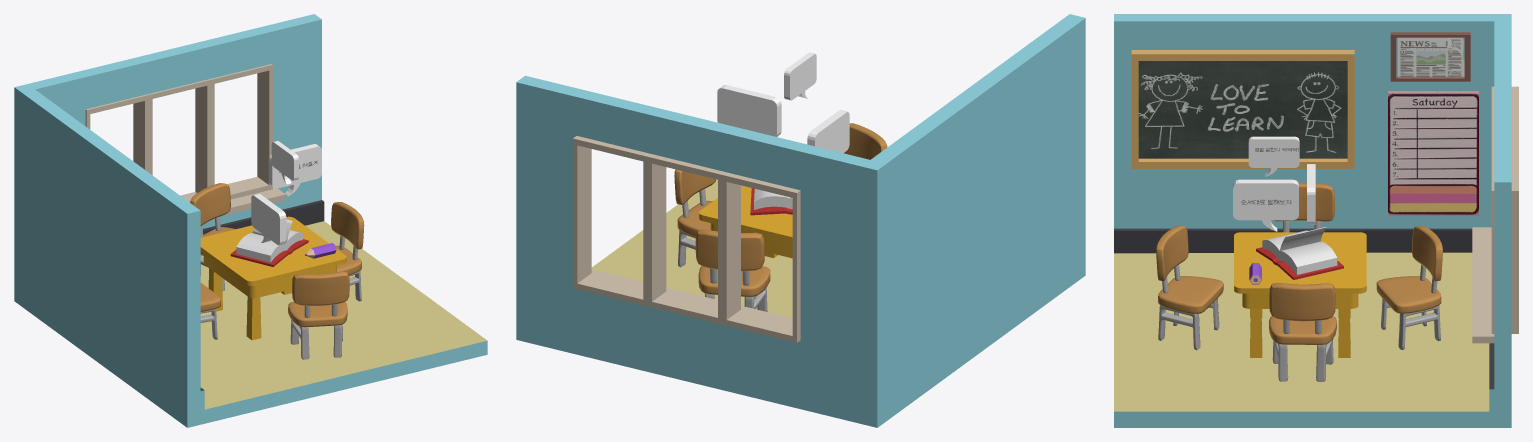
Rendered from Desk.fbx.
3 renders of one model, left to right at view 1: azimuth 30°, elevation 25°; view 2: azimuth 150°, elevation 25°; view 3: azimuth 270°, elevation 25°, orthographic. The views are drawn at different scales.
Visible parts, largest first — view 1: Wall, Desk, Chair_04, Chair_02, Book, Chair_01, Balloon_02, Balloon_03, Balloon_01, Chair_03; view 2: Wall, Chair_01, Balloon_03, Desk, Chair_02, Balloon_02, Balloon_01, Chair_04, Book; view 3: Wall, Desk, Chair_02, Chair_04, Chair_01, Balloon_02, Book, Balloon_01, Chair_03, Book.001, Balloon_03.
Part boxes in pixels (bbox=[...]): Wall: bbox=[14, 14, 487, 427]; Desk: bbox=[200, 216, 346, 340]; Chair_04: bbox=[288, 271, 349, 359]; Chair_02: bbox=[331, 202, 364, 301]; Book: bbox=[230, 230, 308, 266]; Chair_01: bbox=[190, 183, 235, 291]; Balloon_02: bbox=[251, 193, 286, 245]; Balloon_03: bbox=[268, 144, 321, 196]; Balloon_01: bbox=[271, 140, 298, 184]; Chair_03: bbox=[200, 283, 220, 339]; Wall: bbox=[516, 14, 1085, 427]; Chair_01: bbox=[695, 229, 770, 311]; Balloon_03: bbox=[717, 85, 781, 136]; Desk: bbox=[699, 185, 792, 258]; Chair_02: bbox=[674, 169, 715, 267]; Balloon_02: bbox=[807, 110, 849, 153]; Balloon_01: bbox=[784, 52, 816, 100]; Chair_04: bbox=[844, 123, 887, 159]; Book: bbox=[750, 188, 792, 215]; Wall: bbox=[1114, 14, 1518, 427]; Desk: bbox=[1234, 232, 1366, 357]; Chair_02: bbox=[1269, 282, 1336, 381]; Chair_04: bbox=[1156, 225, 1223, 350]; Chair_01: bbox=[1376, 225, 1442, 349]; Balloon_02: bbox=[1233, 179, 1298, 231]; Book: bbox=[1256, 230, 1343, 279]; Balloon_01: bbox=[1248, 136, 1299, 176]; Chair_03: bbox=[1273, 182, 1334, 232]; Book.001: bbox=[1280, 227, 1326, 250]; Balloon_03: bbox=[1307, 164, 1315, 224].
Size of the model in its own units: 1961 by 1336 by 1994.
